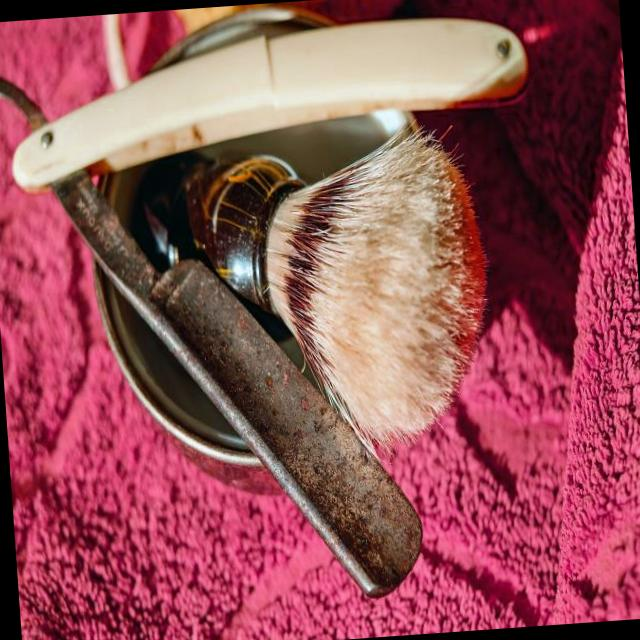Knife: (0, 18, 526, 595)
